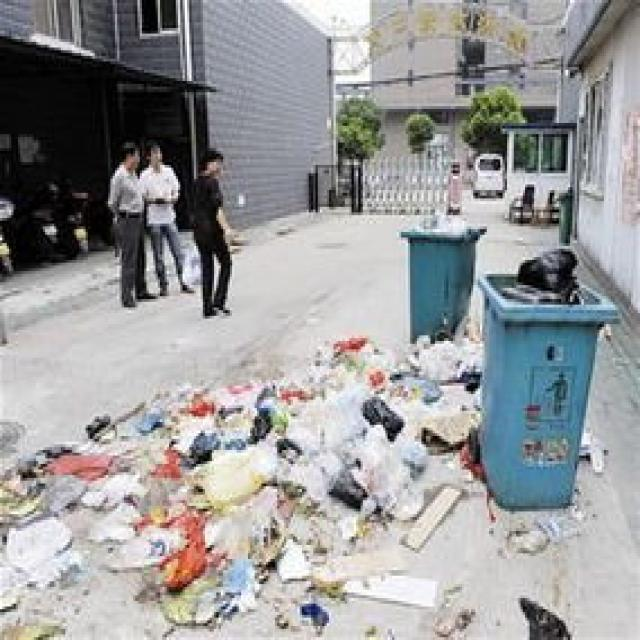garbage: (0, 333, 485, 637)
garbage_bin: (399, 221, 484, 338)
overflow: (473, 246, 615, 506)
